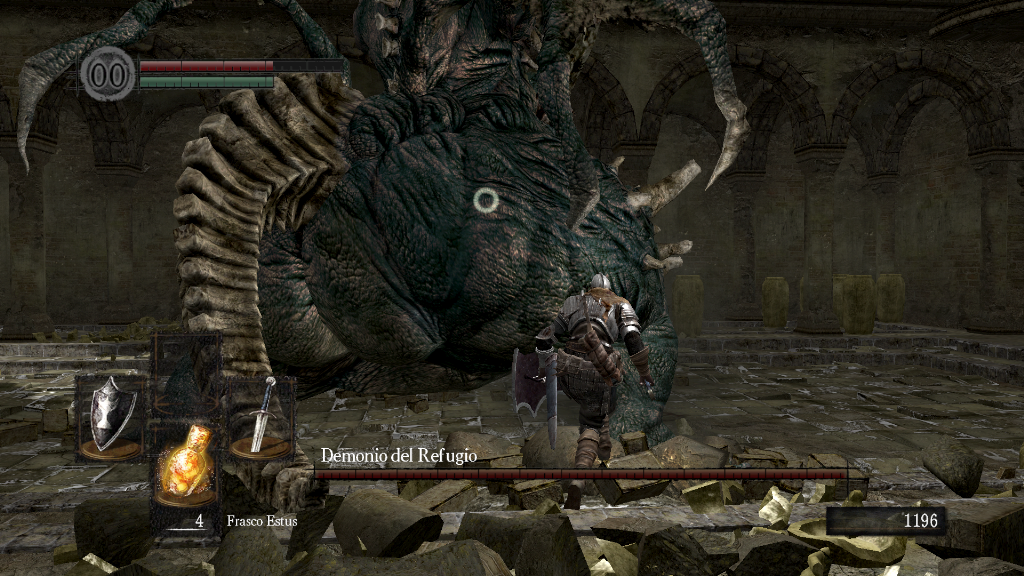asylumDemon: (3, 3, 758, 512)
bossHP: (314, 469, 847, 479)
health: (138, 58, 343, 71)
humanity: (80, 45, 136, 102)
player: (511, 273, 659, 465)
souls: (825, 506, 945, 536)
stamina: (138, 74, 274, 88)
